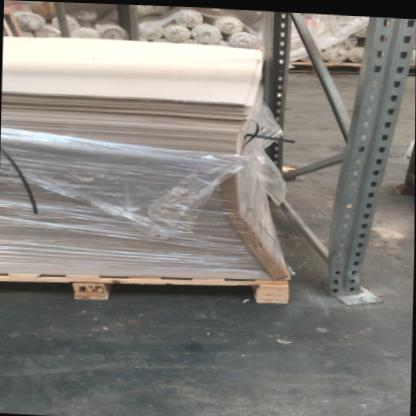vertical_damage: (320, 258, 388, 308)
